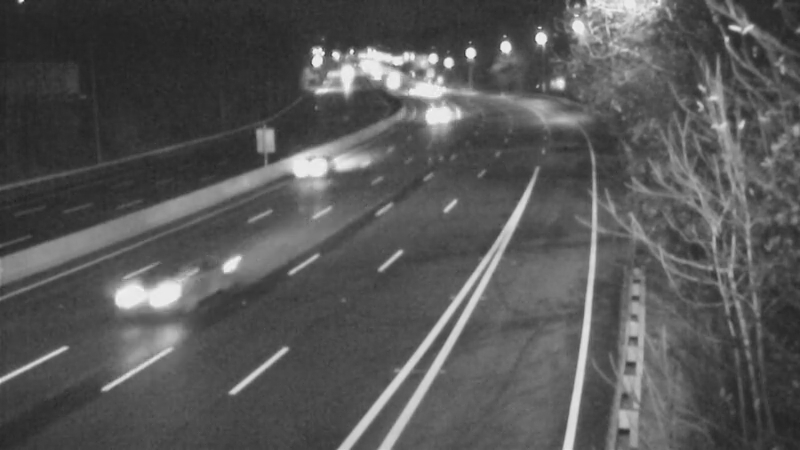vehicle: (94, 246, 204, 356), (276, 128, 356, 208), (397, 66, 447, 116), (417, 66, 467, 116), (413, 91, 463, 141)
